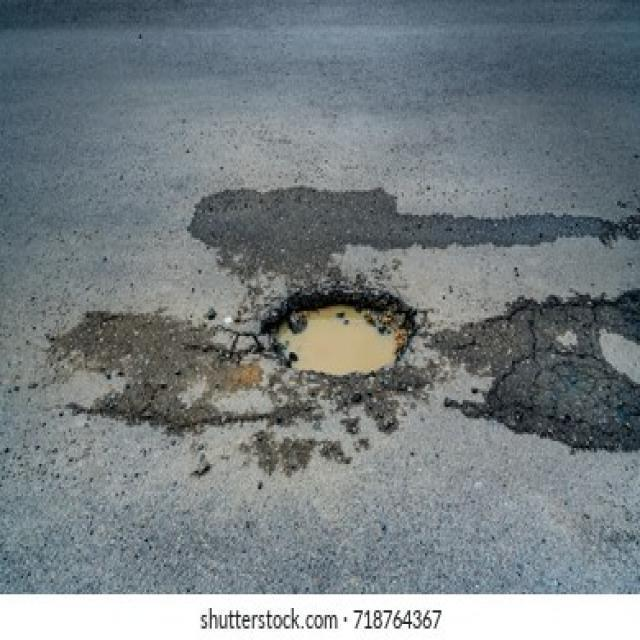pothole: (261, 284, 417, 378)
